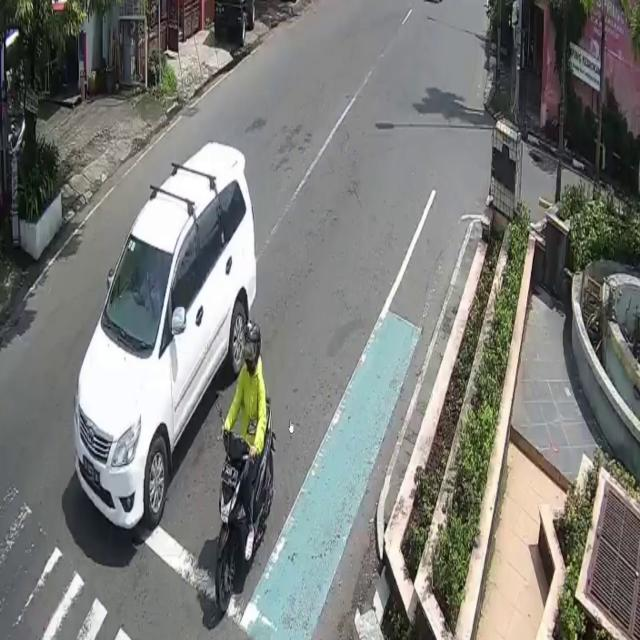car: (75, 142, 256, 528)
motorbike: (216, 397, 274, 615)
